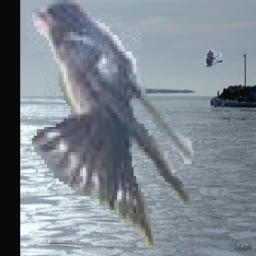Crow: (205, 49, 223, 67)
Swallow: (28, 0, 194, 251)
